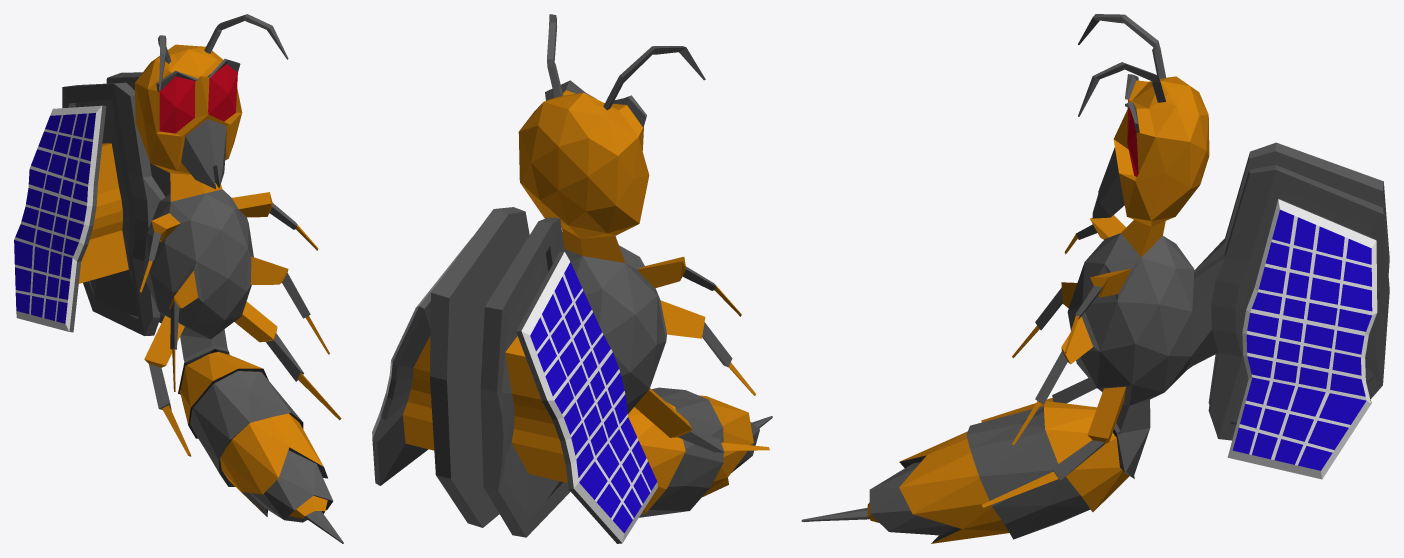
Rendered from Queen2.fbx.
3 views of the same model, side by side, from view 1: azimuth 30°, elevation 25°; view 2: azimuth 150°, elevation 25°; view 3: azimuth 270°, elevation 25° (orthographic). The views are drawn at different scales.
Parts seen in each view (by area): view 1: Icosphere; view 2: Icosphere; view 3: Icosphere.
Part boxes in pixels (bbox=[...]): Icosphere: bbox=[14, 14, 343, 543]; Icosphere: bbox=[372, 14, 772, 543]; Icosphere: bbox=[801, 14, 1389, 543].
Bounding box in the file's own units: 417 × 829 × 896.
